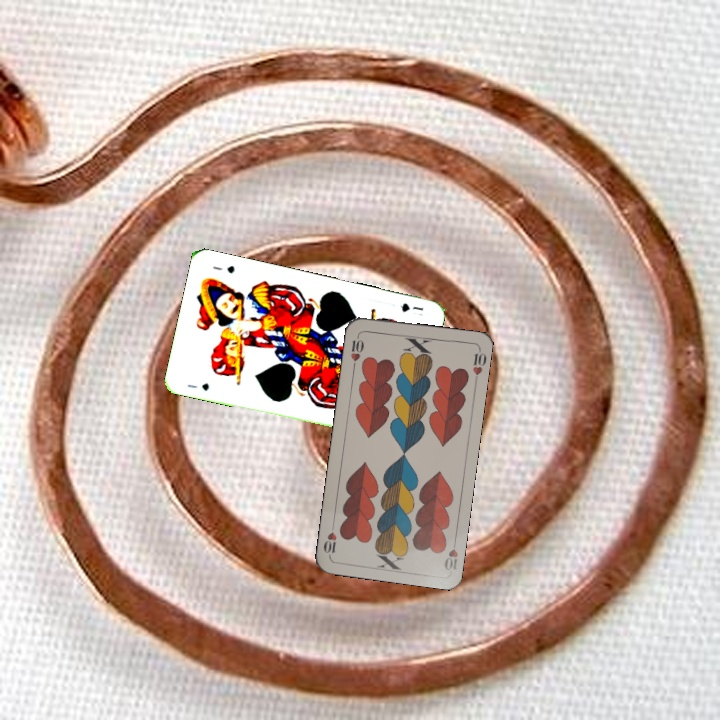GU: (396, 299, 426, 315), (183, 379, 212, 393)
H10: (440, 533, 461, 573), (347, 330, 366, 371)
